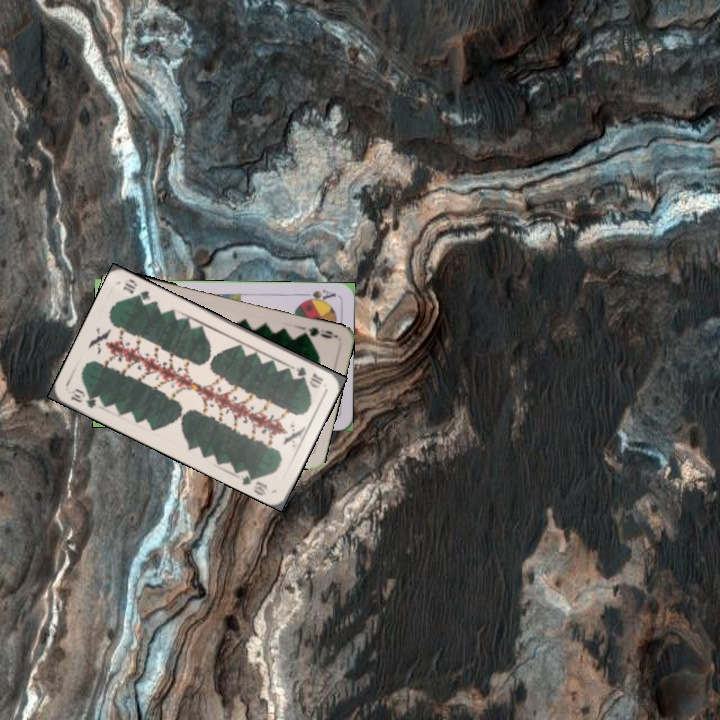G10: (292, 363, 326, 390), (67, 384, 99, 411)
G9: (297, 323, 339, 341)
SA: (298, 285, 338, 305)
